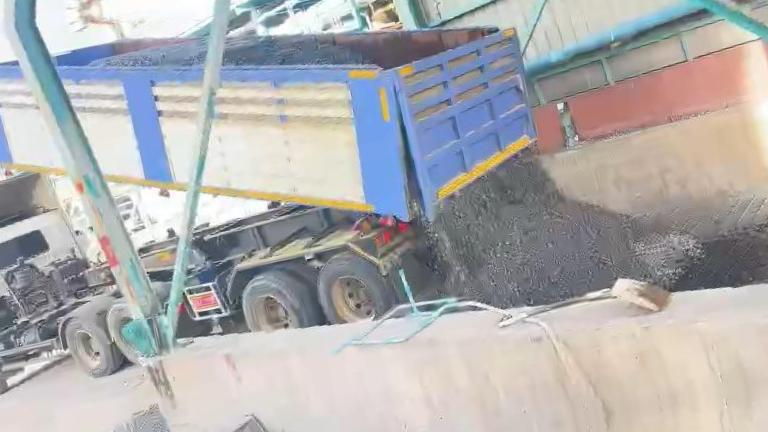gravel: (427, 148, 694, 306), (223, 35, 369, 65), (90, 38, 208, 67), (69, 405, 177, 432)
